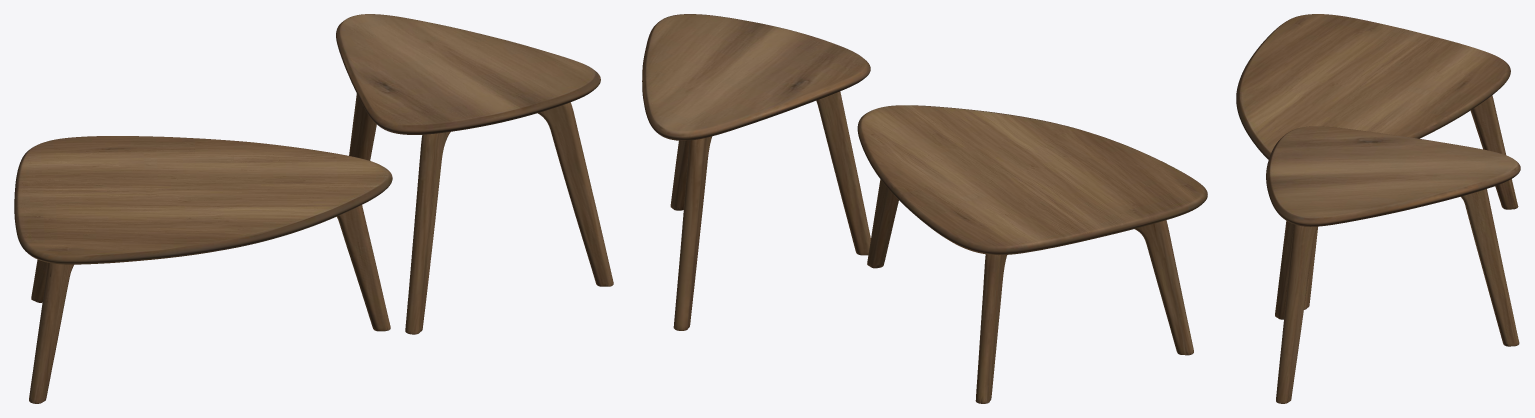
The model's file is coffee-real-castlery-vincent-coffee-table-set-walnut.glb.
3 views of the same model, side by side, from view 1: azimuth 30°, elevation 25°; view 2: azimuth 150°, elevation 25°; view 3: azimuth 270°, elevation 25° (orthographic). The views are drawn at different scales.
Parts seen in each view (by area): view 1: node_0; view 2: node_0; view 3: node_0.
Boxes of the visible parts, x1,y1,x2,y2 form: node_0: (14,14,613,403); node_0: (642,14,1207,403); node_0: (1236,14,1520,403).
Bounding box in the file's own units: 1.08 × 0.3736 × 0.5234.
1 material, 1 textured.
